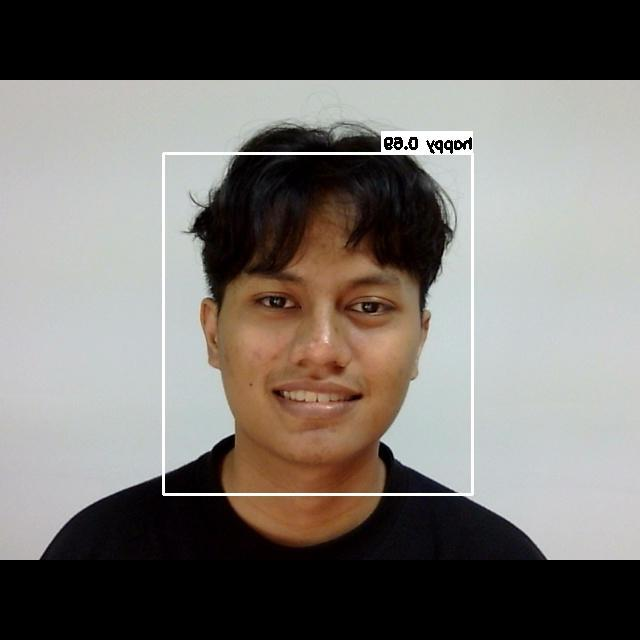Happy: (206, 234, 427, 458)
